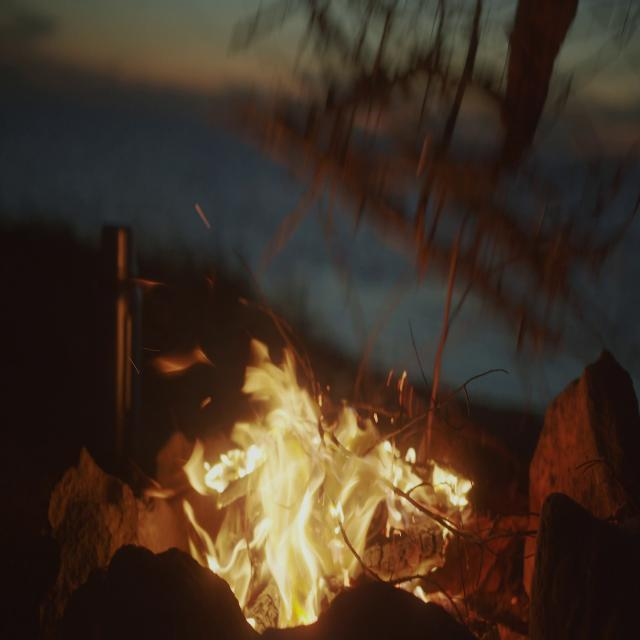Fire: (178, 330, 476, 623)
